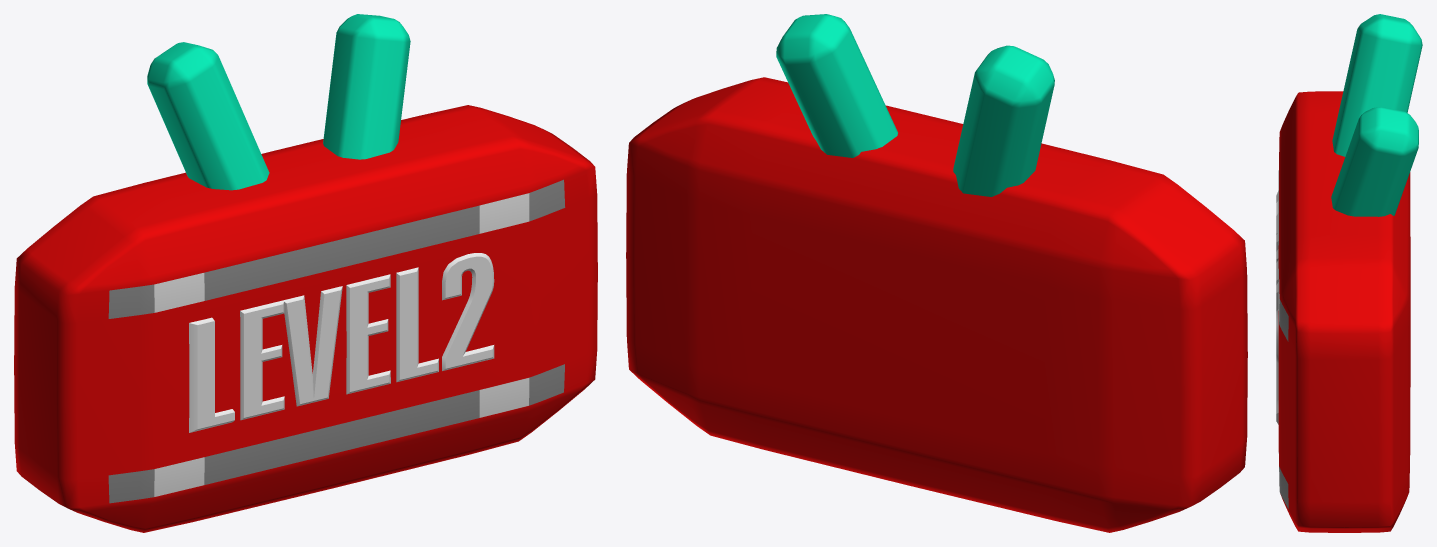
File: text_level2.fbx
3 views of the same model, side by side, from view 1: azimuth 30°, elevation 25°; view 2: azimuth 150°, elevation 25°; view 3: azimuth 270°, elevation 25° (orthographic). The views are drawn at different scales.
Parts seen in each view (by area): view 1: text3:typeMesh2; view 2: text3:typeMesh2; view 3: text3:typeMesh2.
Boxes of the visible parts, x1,y1,x2,y2 form: text3:typeMesh2: (14, 14, 597, 532); text3:typeMesh2: (626, 14, 1247, 532); text3:typeMesh2: (1276, 14, 1422, 532).
Bounding box in the file's own units: 9.72 × 7.45 × 2.52.
